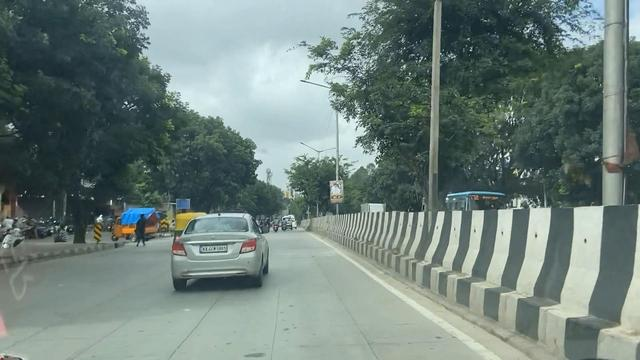LMV: (172, 207, 270, 291)
